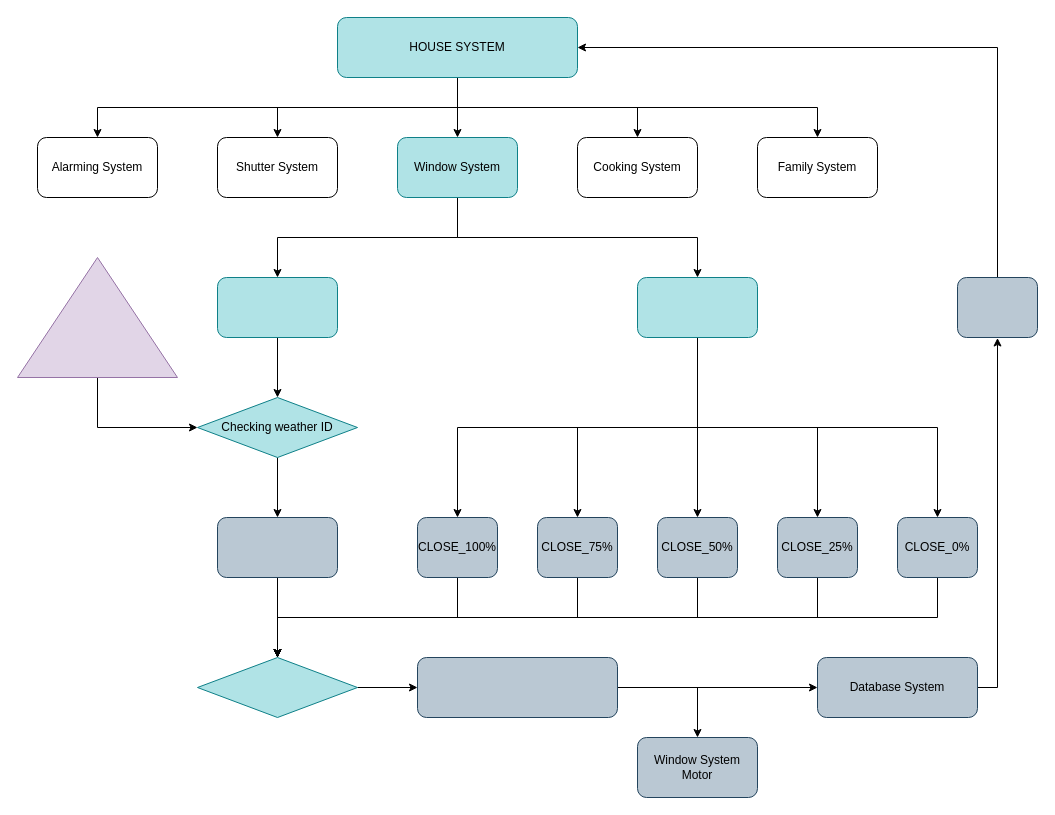
Some shapes in this 1055 by 815 pixel diagram are drawn without their labels. The centre of each missing label's shape, as x and y in pixels:
Automatic Mode: point (277, 307)
Checking Priority: point (277, 687)
Log: point (997, 307)
Manual Mode: point (697, 307)
Openweathermap API: point (97, 317)
Output Mode and Weather Info: point (517, 687)
weatherMode: point (277, 547)
